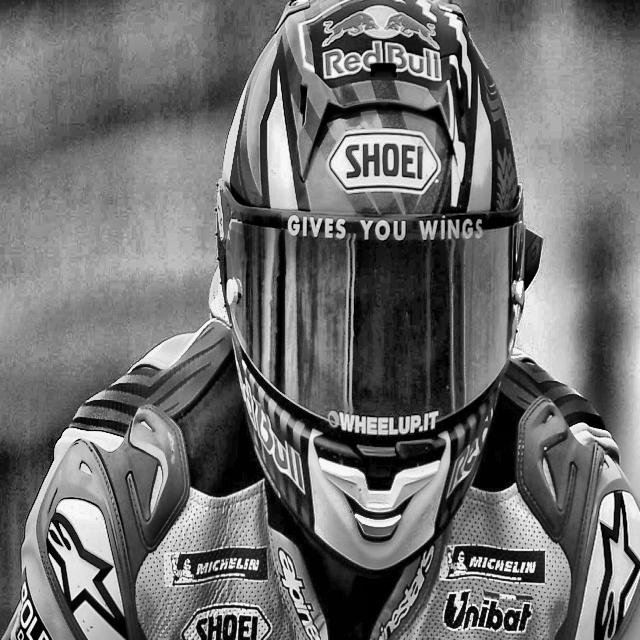Helmet: (211, 0, 549, 570)
